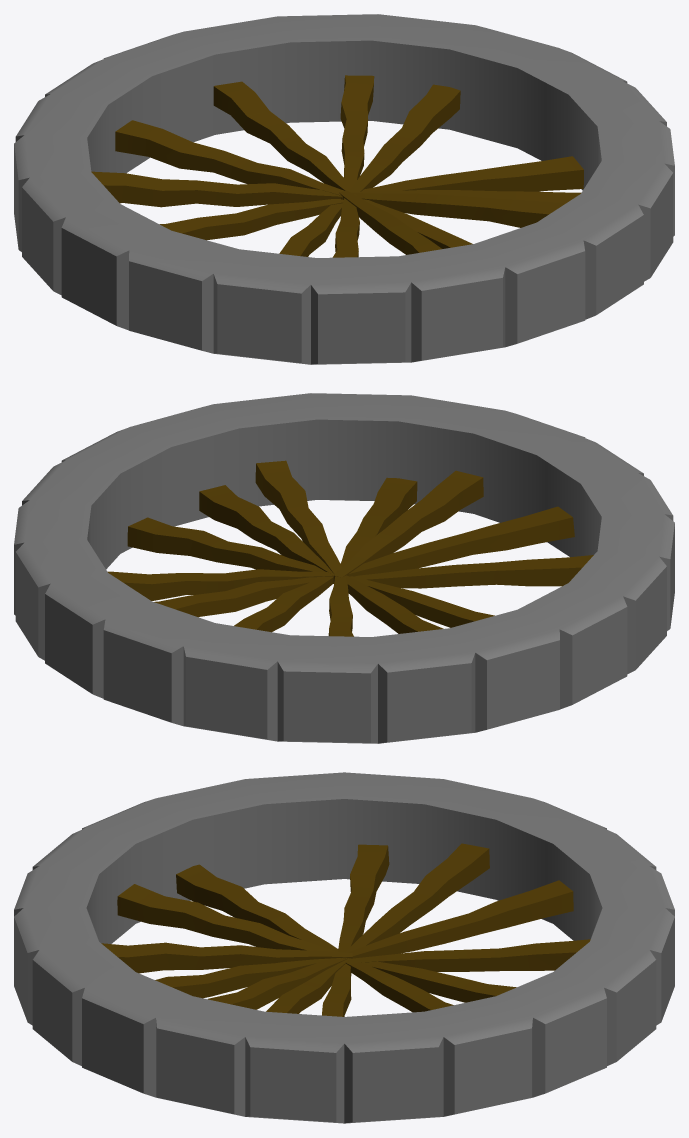
File: camp_Fire.fbx
3 renders of one model, top to bottom at view 1: azimuth 30°, elevation 25°; view 2: azimuth 150°, elevation 25°; view 3: azimuth 270°, elevation 25°, orthographic.
Visible parts, largest first — view 1: pPipe1, pCube23; view 2: pPipe1, pCube23; view 3: pPipe1, pCube23.
Part boxes in pixels (left/top/right/bottom): pPipe1: left=14, top=14, right=674, bottom=364; pCube23: left=91, top=75, right=583, bottom=257; pPipe1: left=14, top=393, right=674, bottom=743; pCube23: left=107, top=460, right=593, bottom=636; pPipe1: left=14, top=772, right=674, bottom=1123; pCube23: left=101, top=843, right=590, bottom=1016.
Bounding box in the file's own units: 2.06 × 0.2754 × 2.06.
